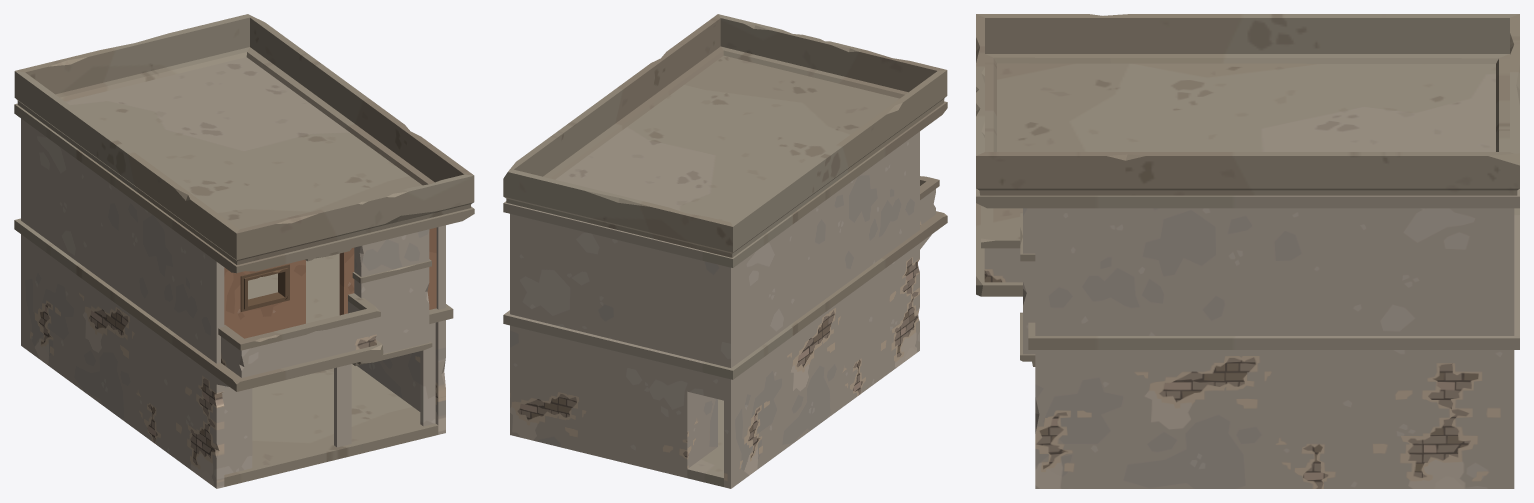
The model's file is SM_Bld_Shop_09.fbx.
3 renders of one model, left to right at view 1: azimuth 30°, elevation 25°; view 2: azimuth 150°, elevation 25°; view 3: azimuth 270°, elevation 25°, orthographic. The views are drawn at different scales.
Parts seen in each view (by area): view 1: SM_Bld_Shop_09; view 2: SM_Bld_Shop_09; view 3: SM_Bld_Shop_09.
Part boxes in pixels (bbox=[...]): SM_Bld_Shop_09: bbox=[14, 14, 474, 488]; SM_Bld_Shop_09: bbox=[503, 14, 947, 488]; SM_Bld_Shop_09: bbox=[976, 14, 1519, 488].
Size of the model in its own units: 702 by 773 by 1136.
